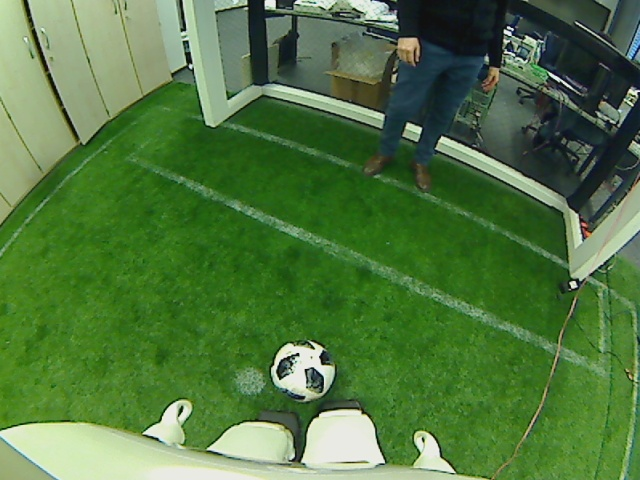ball: (268, 339, 335, 404)
